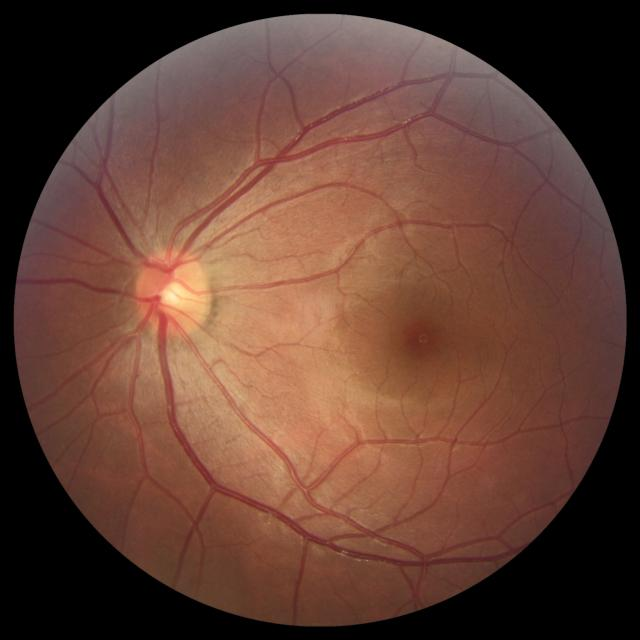OC: (159, 279, 190, 310)
OD: (132, 247, 212, 338)
